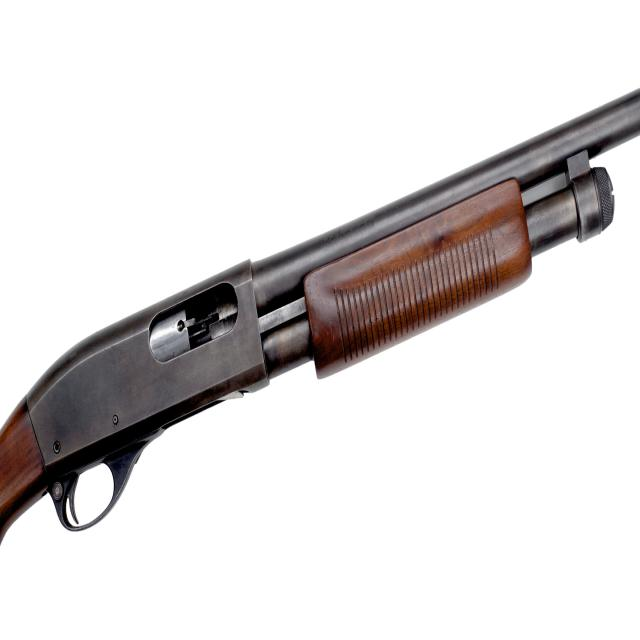ShotGun: (0, 88, 640, 548)
